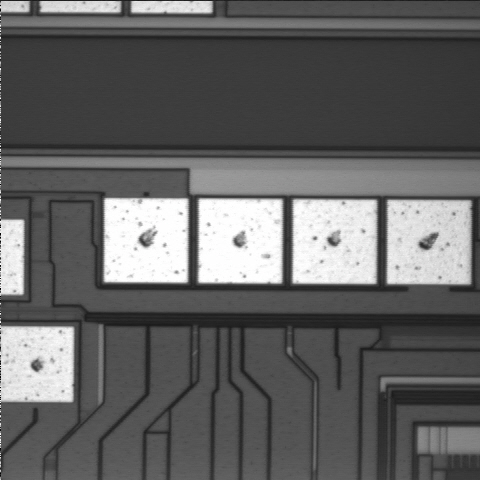pad: (104, 198, 188, 283), (198, 199, 283, 283), (293, 199, 377, 284), (387, 200, 471, 284)
